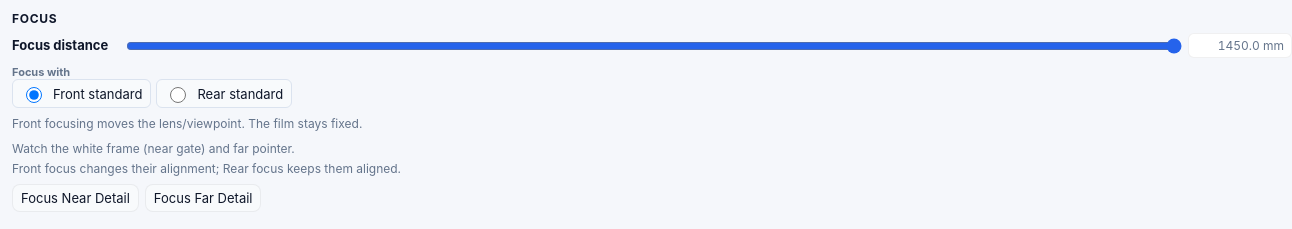
Test: FocusControl presets for Focus Fundamentals › renders accessible focus-standard radios and updates concise mode copy
This screenshot has width=1292, height=229.
Expected: the text "Focus with" is shown, [12,65,70,79]
Expected: the radio button labelled "Front standard" is checked, [26,87,42,103]
Click the radio button labelled "Rear standard" at (178, 95), box [170,87,186,103]
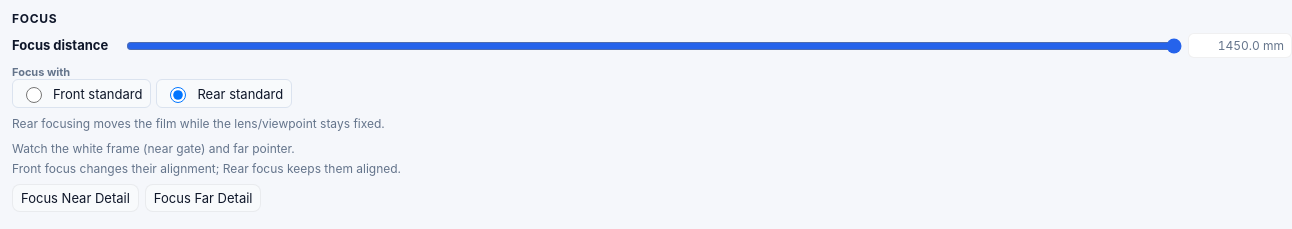
Expected: the text "Watch the white frame (near gate) and far pointer." is shown, [12,141,295,156]
Now the radio button labelled "Rear standard" is checked, box [170,87,186,103]
Now the text "Rear focusing moves the film while the lens/viewpoint stays fixed." is shown, box [12,116,385,131]
Click the radio button labelled "Front standard" at (34, 95), box [26,87,42,103]
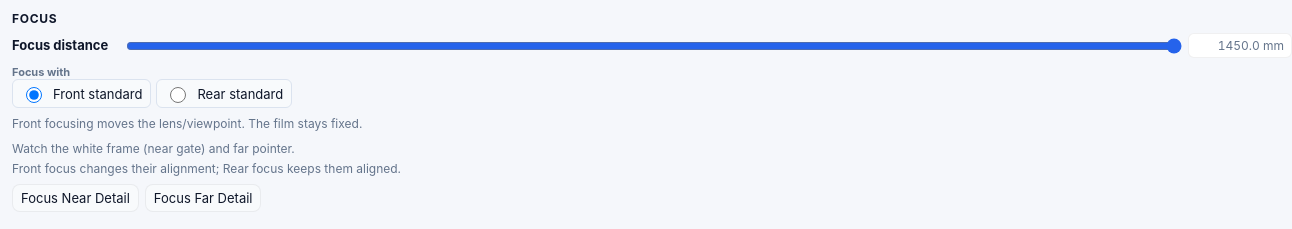
Now the text "Front focusing moves the lens/viewpoint. The film stays fixed." is shown, box [12,116,362,131]
